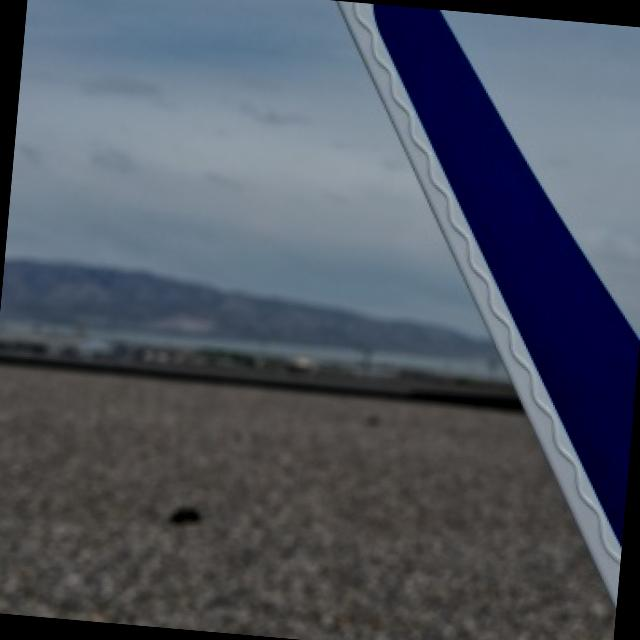healthy: (342, 1, 640, 601)
